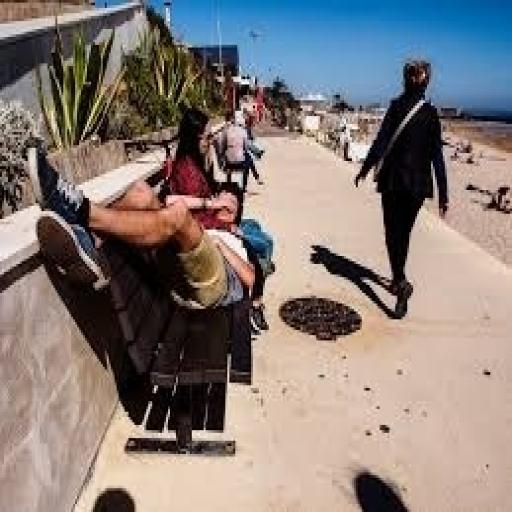sleeping: (24, 137, 273, 333)
